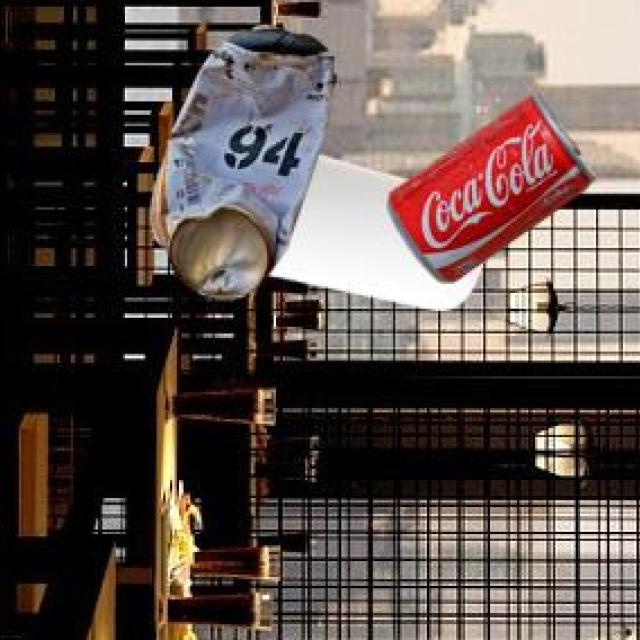logam: (152, 152, 481, 308), (161, 21, 339, 294), (391, 89, 598, 278)
